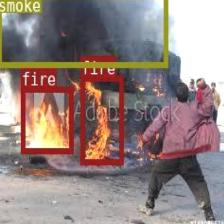fire: (80, 75, 122, 163), (21, 86, 72, 153)
smoke: (0, 0, 167, 66)
